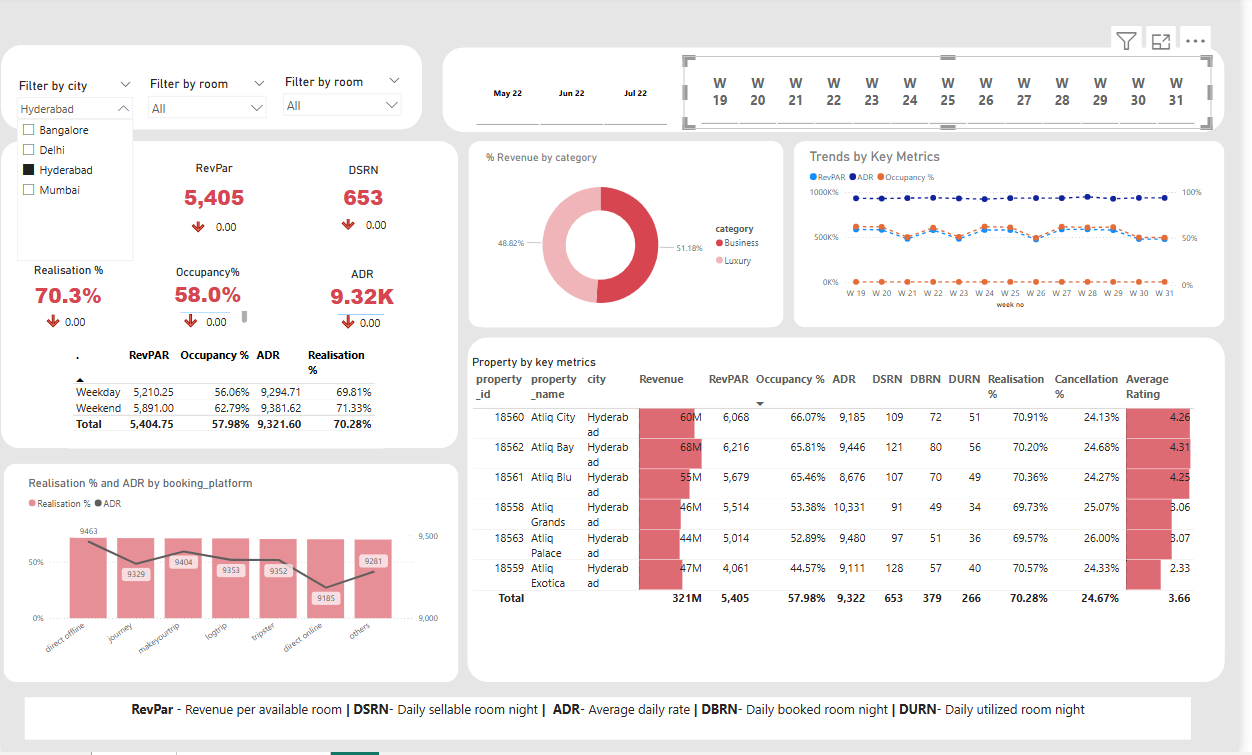

This screenshot's page, from the dashboard's own definition file:
{"tool":"powerbi","page":{"name":"main","canvas":[1800,1100],"ordinal":0},"visuals":[{"type":"shape","box":[678.4,496.5,1102.2,502],"z":0},{"type":"shape","box":[3.6,680.2,662,318.3],"z":1000},{"type":"shape","box":[680.2,210.1,458.3,271],"z":2000},{"type":"shape","box":[0,70.9,612.9,123.7],"z":3000},{"type":"tableEx","title":"Property by key metrics","fields":{"Values":["dim_hotels.property_id","dim_hotels.property_name","dim_hotels.city","key_measures.Revenue","key_measures.RevPAR","key_measures.Occupancy %","key_measures.ADR","key_measures.DSRN","key_measures.DBRN","key_measures.DURN","key_measures.Realisation %","key_measures.Cancellation %"]},"box":[680.2,521.1,1100.4,425.6],"z":4000},{"type":"slicer","fields":{"Values":["dim_hotels.city"]},"box":[12.7,114,189.2,72.8],"z":5000},{"type":"slicer","fields":{"Values":["dim_rooms.room_class"]},"box":[203.7,112.2,192.8,72.8],"z":6000},{"type":"donutChart","title":"% Revenue by category","fields":{"Category":["dim_hotels.category"],"Y":["key_measures.Occupancy %"]},"box":[700.2,225.5,418.3,256.4],"z":7000},{"type":"lineStackedColumnComboChart","fields":{"Category":["facts_bookings.booking_platform"],"Y":["key_measures.Realisation %"],"Y2":["key_measures.ADR"]},"box":[34.6,698.4,607.5,281.9],"z":8000},{"type":"shape","box":[642,74.6,1138.6,123.7],"z":9000},{"type":"slicer","fields":{"Values":["dim_date.mmm yy"]},"box":[665.7,87.3,327.4,107.3],"z":10000},{"type":"slicer","fields":{"Values":["dim_date.week no"]},"box":[993.1,87.3,767.5,105.5],"z":11000},{"type":"shape","box":[0,211,665.7,447.4],"z":12000},{"type":"tableEx","fields":{"Values":["dim_date.day_type","key_measures.RevPAR","key_measures.Occupancy %","key_measures.ADR","key_measures.Realisation %"]},"box":[98.2,505.6,456.5,152.8],"z":13000},{"type":"tableEx","fields":{"Values":["key_measures.Revenue WoW Change %"]},"box":[265.5,289.2,89.1,72.8],"z":14000},{"type":"tableEx","fields":{"Values":["key_measures.Revenue WoW Change %"]},"box":[54.6,285.6,87.3,67.3],"z":15000},{"type":"card","title":"Revenue","fields":{"Values":["key_measures.Revenue"]},"box":[32.7,238.3,134.6,81.8],"z":16000},{"type":"card","title":"RevPar","fields":{"Values":["key_measures.RevPAR"]},"box":[236.4,239.3,147.2,88.1],"z":17000},{"type":"tableEx","fields":{"Values":["key_measures.Revenue WoW Change %"]},"box":[483.8,429.2,87.3,63.7],"z":19000},{"type":"card","title":"ADR","fields":{"Values":["key_measures.ADR"]},"box":[456.5,394.7,138.2,67.3],"z":20000},{"type":"tableEx","fields":{"Values":["key_measures.Realisation WoW change %"]},"box":[54.6,426.8,87.3,72.8],"z":21000},{"type":"card","title":"Realisation %","fields":{"Values":["key_measures.Realisation %"]},"box":[34.4,388.4,127.3,74.6],"z":22000},{"type":"shape","box":[1153.1,210.1,627.5,271],"z":23000},{"type":"lineChart","title":"Trends by Key Metrics","fields":{"Category":["dim_date.mmm yy.Variation.Date Hierarchy.Month","dim_date.week no"],"Y":["key_measures.RevPAR","key_measures.ADR","key_measures.Occupancy %"],"Y2":["key_measures.Occupancy %"]},"box":[1171.3,221.3,582,238.3],"z":24000},{"type":"shape","box":[17.6,998.5,1782.4,61.8],"z":25000},{"type":"textbox","box":[34.6,1020.3,1696.9,61.8],"z":26000},{"type":"slicer","fields":{"Values":["dim_rooms.room_class"]},"box":[400.1,108.5,192.8,72.8],"z":27000},{"type":"tableEx","fields":{"Values":["key_measures.Revenue WoW Change %"]},"box":[254.6,427.4,109.1,60],"z":28000},{"type":"card","title":"Occupancy%","fields":{"Values":["key_measures.Occupancy %"]},"box":[238.3,391,125.5,67.3],"z":29000},{"type":"tableEx","fields":{"Values":["key_measures.Revenue WoW Change %"]},"box":[483.8,285.6,89.1,72.8],"z":30000},{"type":"card","title":"DSRN","fields":{"Values":["key_measures.DSRN"]},"box":[467.5,242.9,119.8,81.1],"z":30500}]}

Visuals, with their boxes in screenshot pixels (x1, y1, x2, y2), scaled from the page's 1800x1100 canvas onto the 1252x755 screenshot:
shape: (472, 341, 1239, 685)
shape: (3, 467, 463, 685)
shape: (473, 144, 792, 330)
shape: (0, 49, 426, 134)
"Property by key metrics" tableEx: (473, 358, 1239, 650)
slicer - dim_hotels.city: (9, 78, 140, 128)
slicer - dim_rooms.room_class: (142, 77, 276, 127)
"% Revenue by category" donutChart: (487, 155, 778, 331)
lineStackedColumnComboChart - facts_bookings.booking_platform x key_measures.Realisation %: (24, 479, 447, 673)
shape: (447, 51, 1239, 136)
slicer - dim_date.mmm yy: (463, 60, 691, 134)
slicer - dim_date.week no: (691, 60, 1225, 132)
shape: (0, 145, 463, 452)
tableEx - dim_date.day_type x key_measures.RevPAR: (68, 347, 386, 452)
tableEx - key_measures.Revenue WoW Change %: (185, 198, 247, 248)
tableEx - key_measures.Revenue WoW Change %: (38, 196, 99, 242)
"Revenue" card: (23, 164, 116, 220)
"RevPar" card: (164, 164, 267, 225)
tableEx - key_measures.Revenue WoW Change %: (337, 295, 397, 338)
"ADR" card: (318, 271, 414, 317)
tableEx - key_measures.Realisation WoW change %: (38, 293, 99, 343)
"Realisation %" card: (24, 267, 112, 318)
shape: (802, 144, 1239, 330)
"Trends by Key Metrics" lineChart: (815, 152, 1220, 315)
shape: (12, 685, 1251, 728)
textbox: (24, 700, 1204, 743)
slicer - dim_rooms.room_class: (278, 74, 412, 124)
tableEx - key_measures.Revenue WoW Change %: (177, 293, 253, 335)
"Occupancy%" card: (166, 268, 253, 315)
tableEx - key_measures.Revenue WoW Change %: (337, 196, 398, 246)
"DSRN" card: (325, 167, 408, 222)
